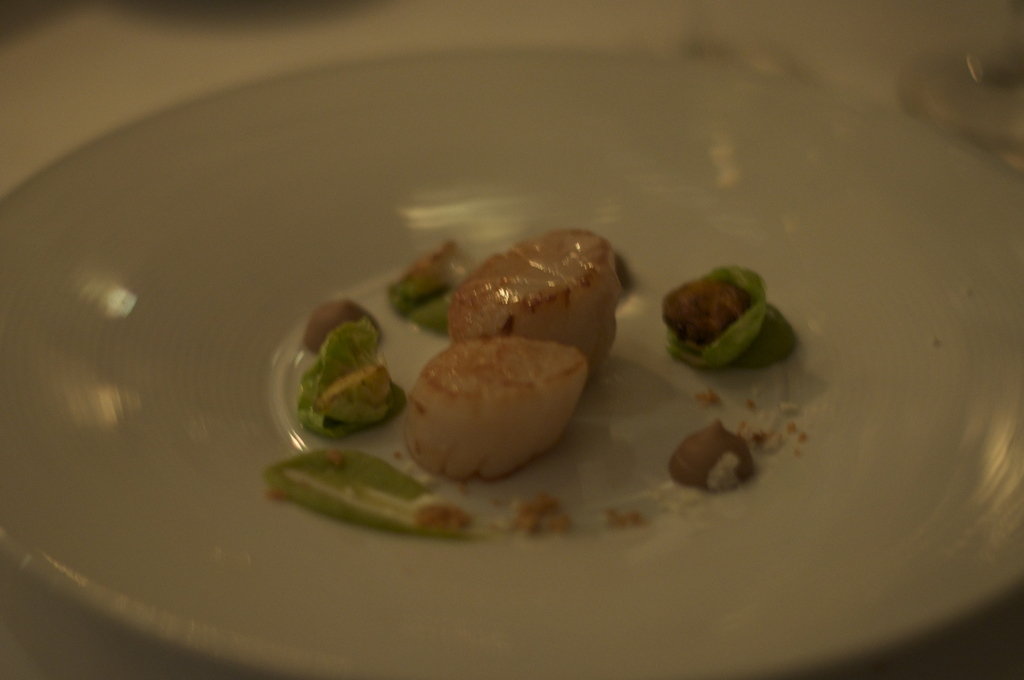plate: (1, 0, 1023, 679)
